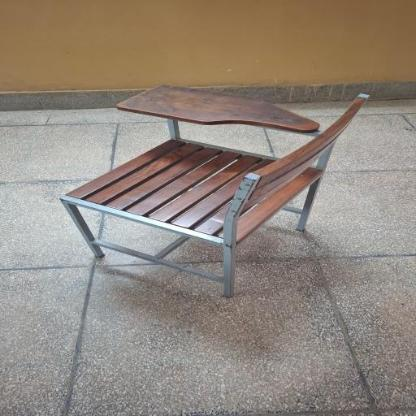chair: (60, 76, 375, 311)
